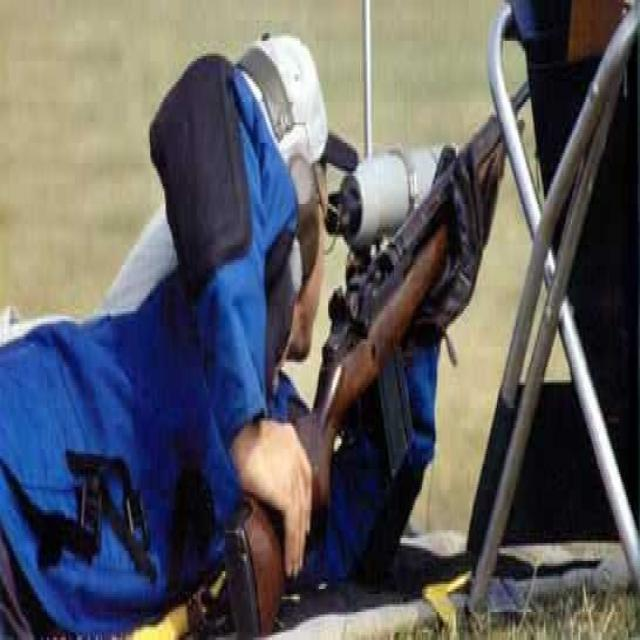weapon: (214, 30, 552, 640)
